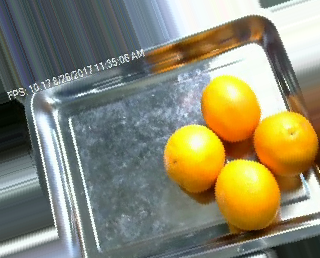Orange: (214, 157, 283, 230), (162, 123, 225, 192), (252, 112, 319, 176), (201, 77, 263, 143)
